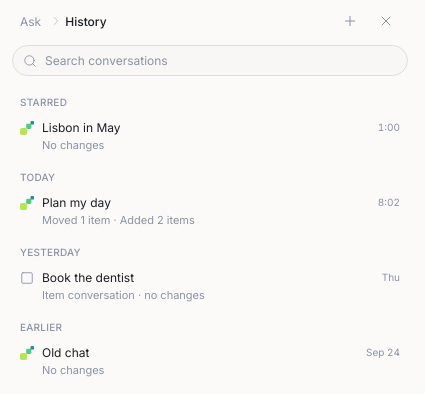
History › search › asks from two characters, 250ms after the last keystroke
The image size is (425, 394).
Step 1. Type "d" into the search field labelled "Search conversations" → (221,60), box [41, 52, 401, 69]
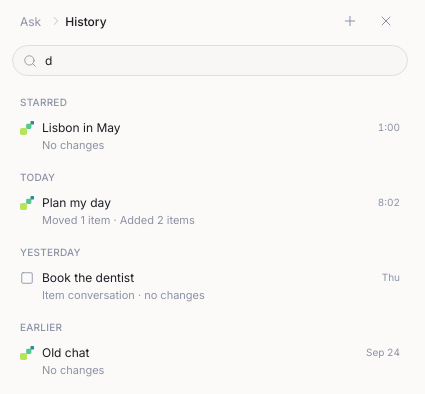
Step 2. Replace the text in the search field named "Search conversations" with "de" → (221,60), box [41, 52, 401, 69]
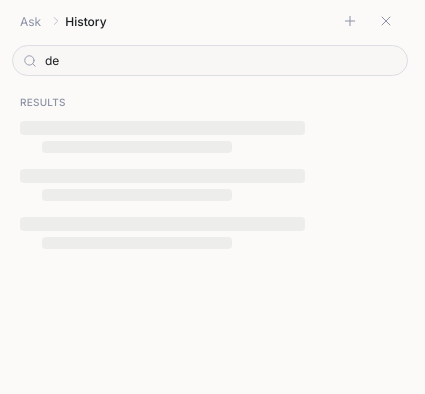
Step 3. Replace the text in the search field named "Search conversations" with "den" → (221,60), box [41, 52, 401, 69]
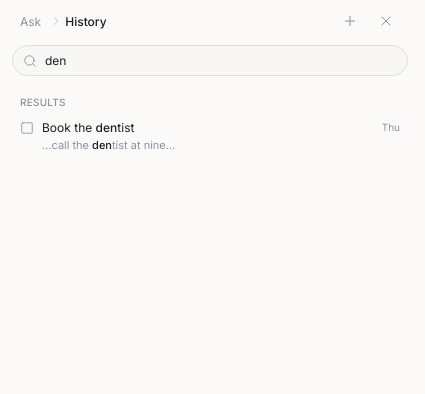
Expected: the element with test id "history-second-line" reads "…call the dentist at nine…", [20, 138, 175, 153]
Expected: the 2nd text "den" is shown, [92, 138, 112, 152]
